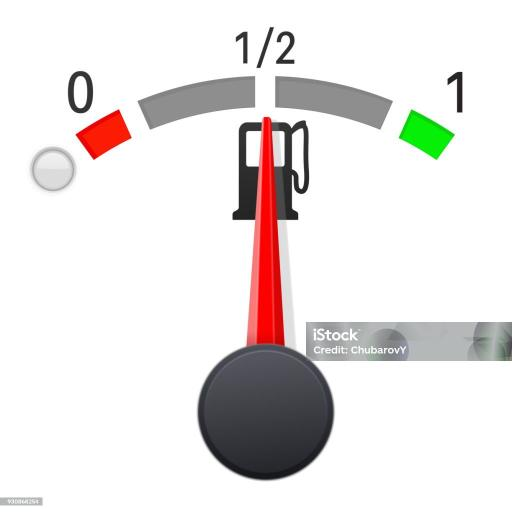empty: (68, 62, 94, 124)
fuel_icon: (228, 115, 312, 220)
full: (446, 66, 469, 124)
guage_area: (33, 17, 475, 484)
needle_center: (202, 331, 332, 482)
needle_tip: (258, 114, 282, 141)
